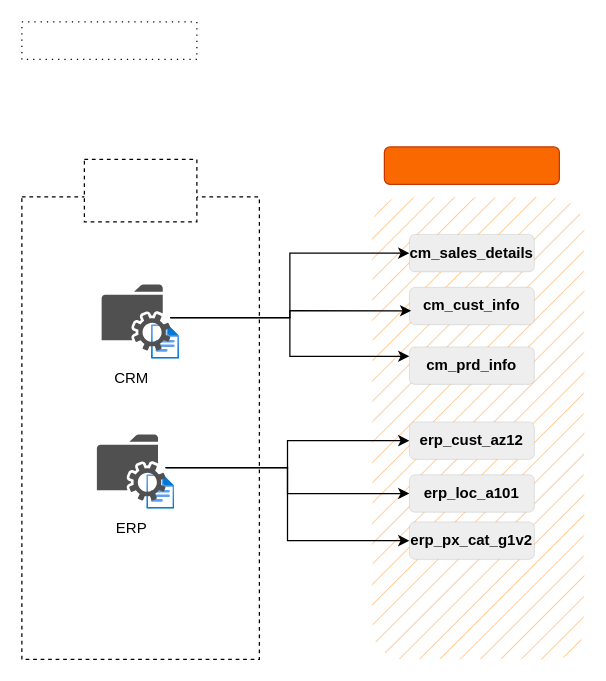
The diagram is 606 pixels wide and 681 high, and some of its shapes have lost their labels. The centre of each missing label's shape, as x and y in pixels:
bronze layer: the point at 471,165
high lever architecture: the point at 109,40
source: the point at 140,190
